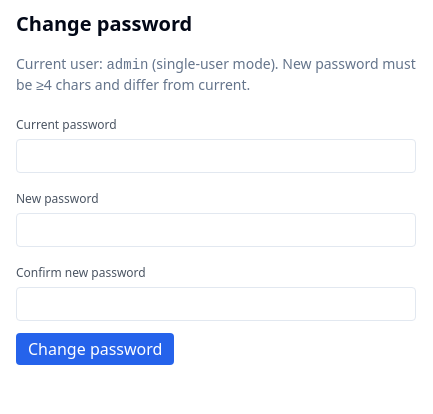
Scenario: AdminChangePasswordPage › rejects new password <4 chars
Type "admin" into the password field with test id "cp-current" at (216, 156), box [16, 139, 416, 173]
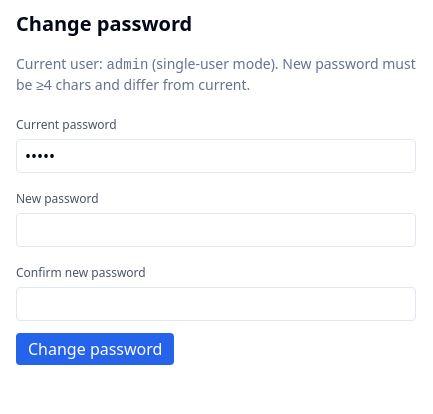
Type "abc" into the password field with test id "cp-new" at (216, 230), box [16, 213, 416, 247]
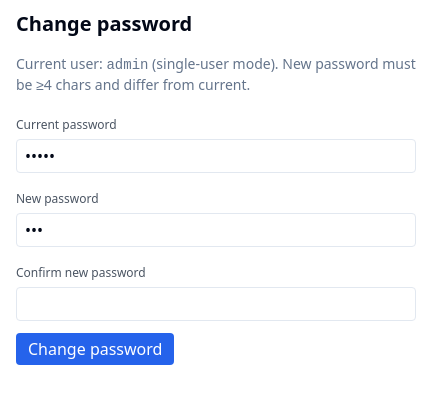
Type "abc" into the password field with test id "cp-confirm" at (216, 304), box [16, 287, 416, 321]
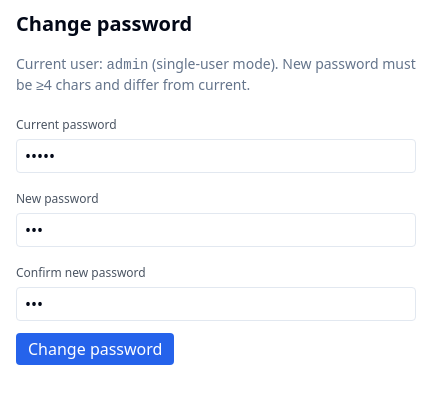
Click the button with test id "cp-submit" at (95, 349), box [16, 333, 174, 365]
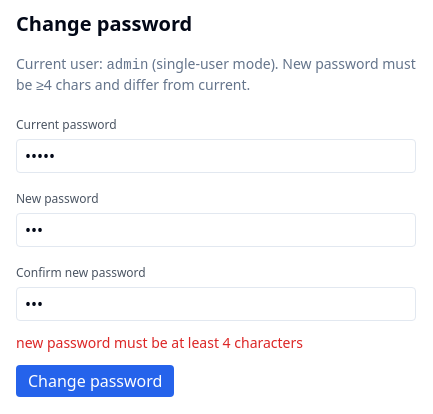
Check: the text with test id "cp-error" shows "at least 4", box [16, 333, 303, 352]
